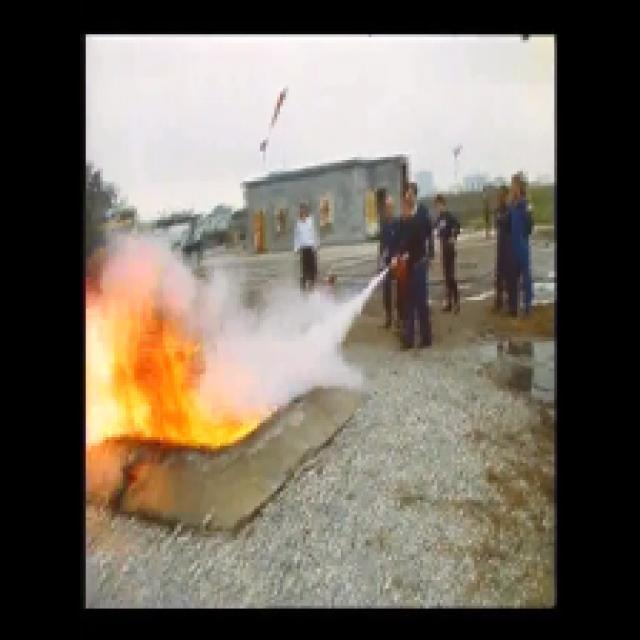Fire: (87, 262, 264, 454)
Smoke: (105, 224, 390, 414)
